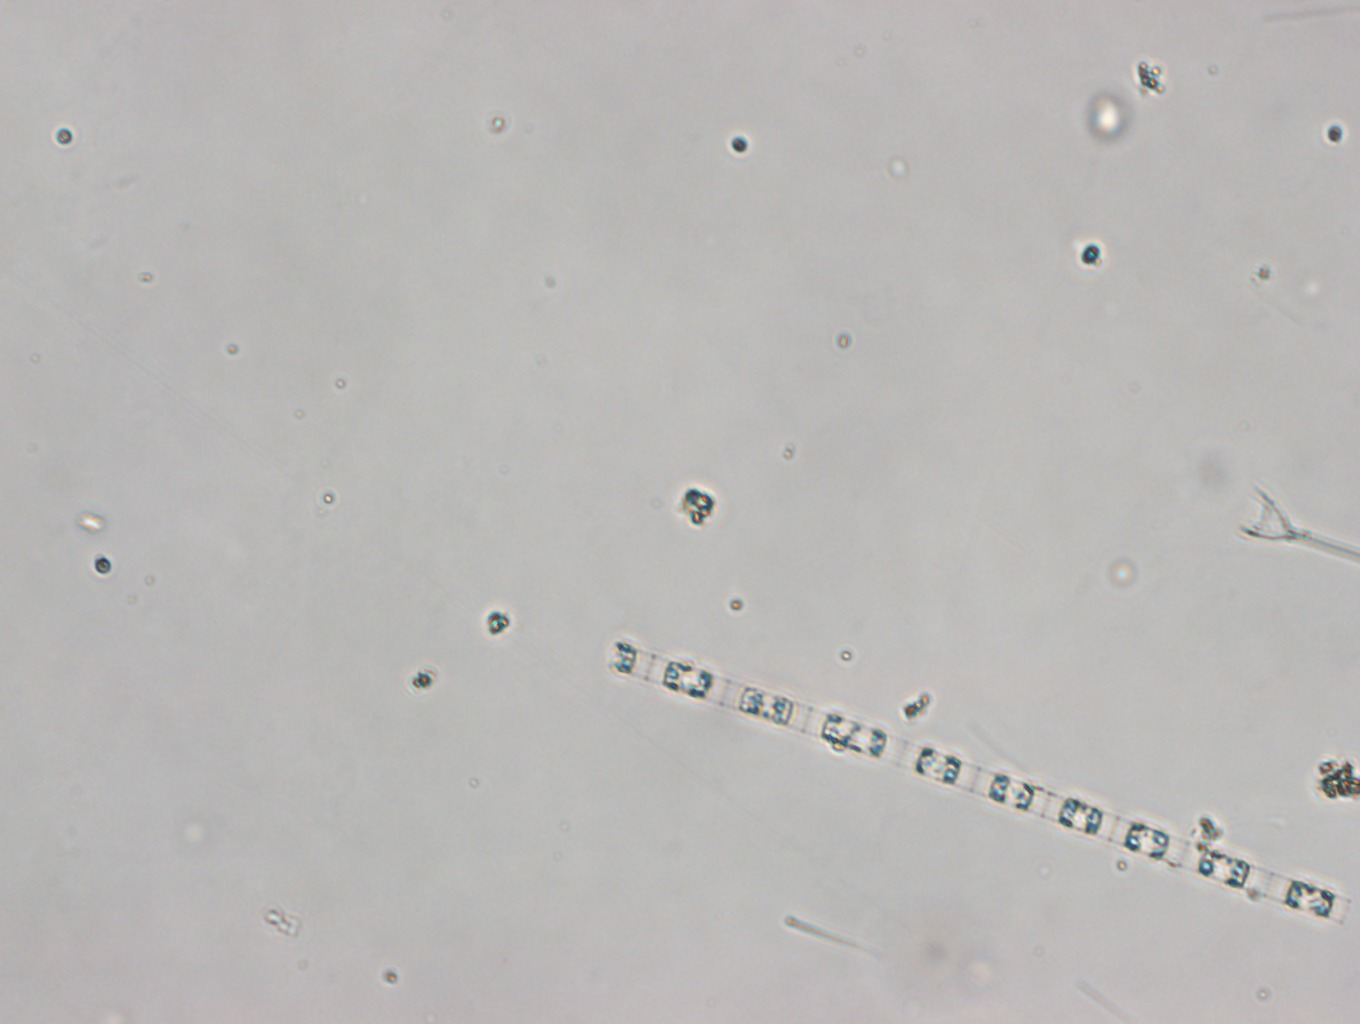skeletonema: (609, 638, 1355, 927)
